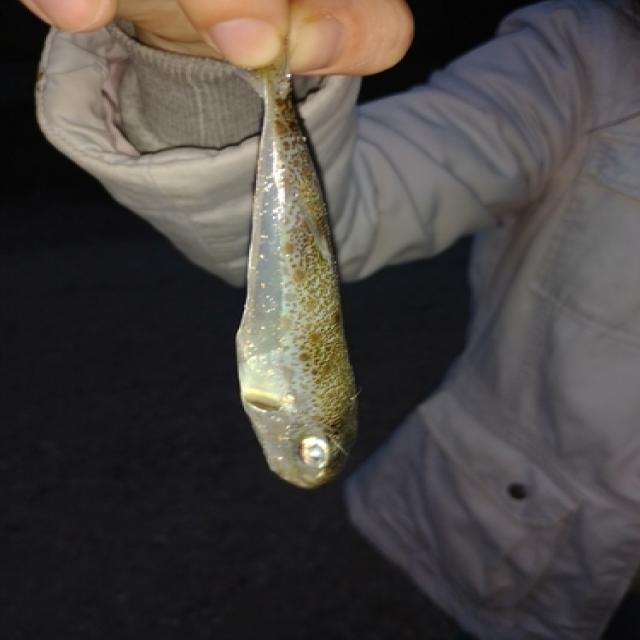Balik: (238, 57, 356, 487)
